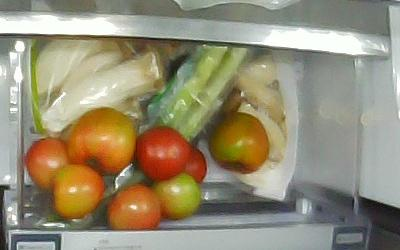tomato: (64, 105, 137, 176), (207, 111, 270, 173), (129, 124, 191, 181), (50, 162, 106, 218), (23, 135, 71, 194), (104, 182, 161, 231), (148, 170, 201, 219), (182, 146, 205, 184)
